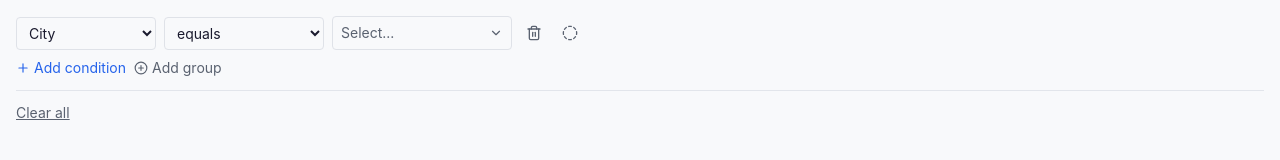
Test: contingent filter values › uses filter context without a dependency criterion, returning all options
Click the dropdown named "Filter value for City" at (422, 33), box [332,16,512,50]
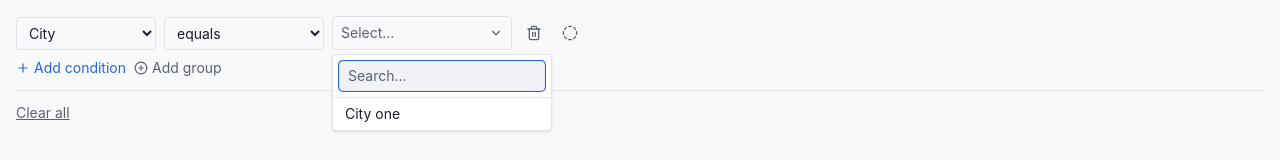
Now the option "City one" is shown, box [345,105,400,122]
